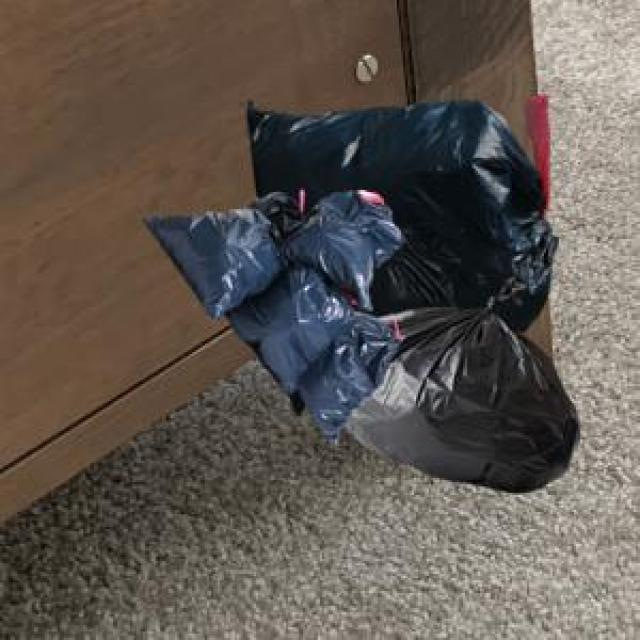waste: (149, 102, 579, 491)
